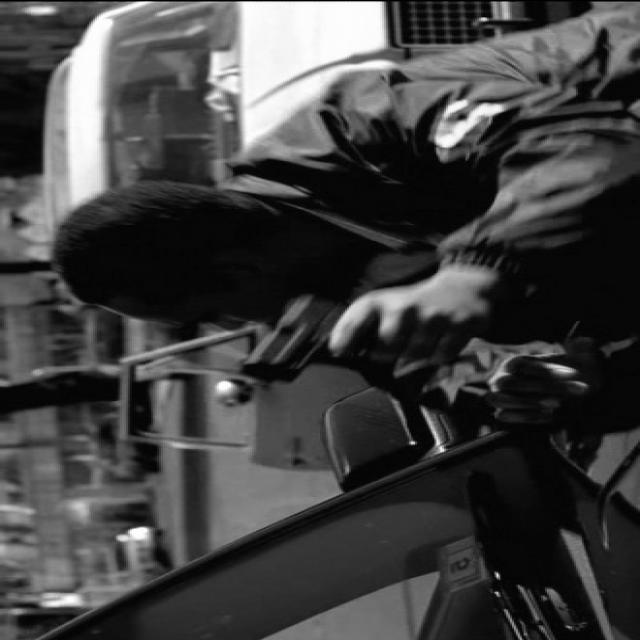weapons: (215, 287, 450, 389)
